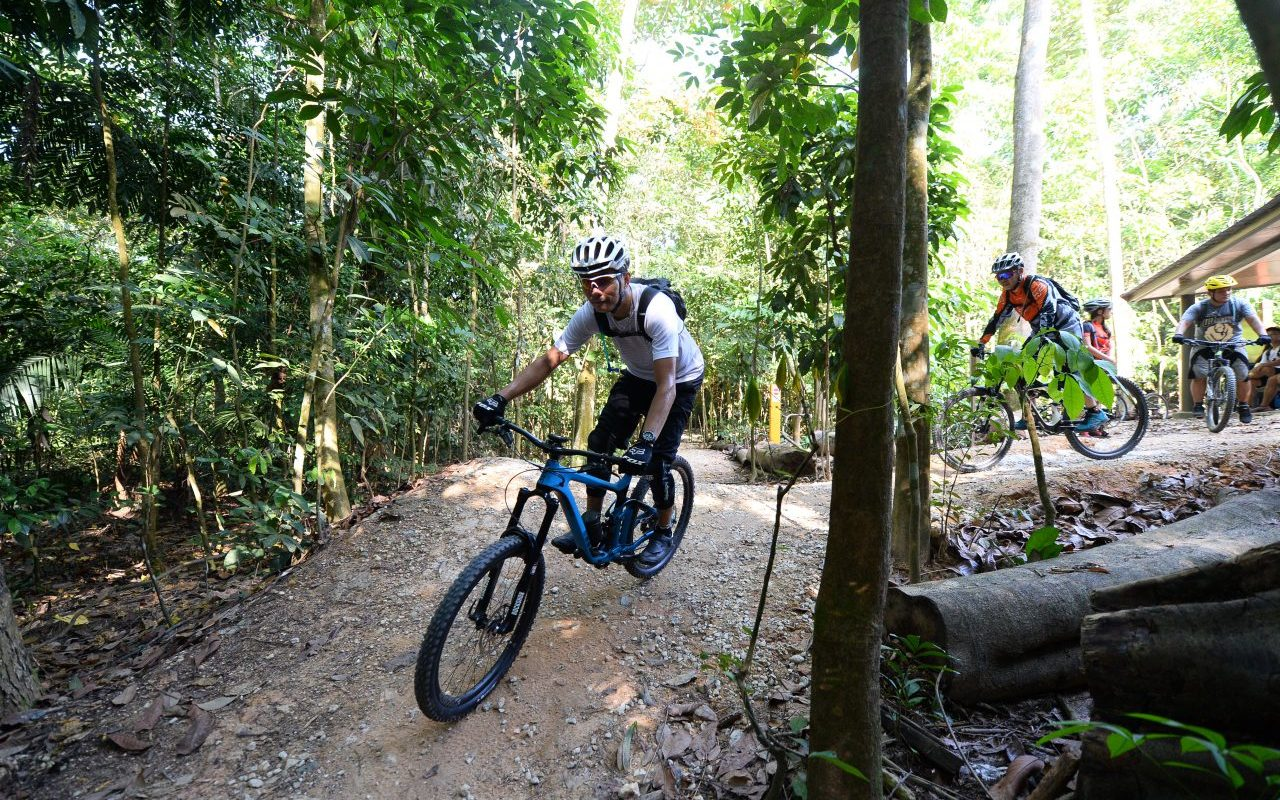bike: (416, 406, 696, 725), (933, 373, 1149, 462), (1173, 333, 1273, 430)
person: (480, 237, 710, 570), (975, 251, 1109, 435), (1175, 277, 1268, 437)
tree: (807, 6, 928, 800), (284, 4, 361, 523)
tree branches: (412, 24, 545, 95)
